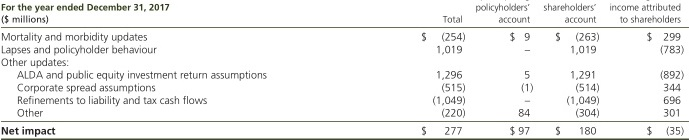column: (2, 1, 266, 140), (610, 1, 683, 140), (1, 44, 687, 56), (476, 1, 533, 140), (544, 1, 599, 140), (1, 82, 687, 93), (1, 32, 689, 42), (1, 58, 689, 68), (1, 70, 689, 80), (1, 3, 689, 12), (1, 15, 689, 24), (422, 1, 466, 140)
row: (1, 31, 689, 43), (1, 45, 689, 57), (1, 14, 689, 25), (1, 58, 689, 69), (1, 83, 689, 94), (1, 95, 687, 106), (1, 126, 689, 136), (1, 3, 689, 12), (1, 70, 689, 79), (1, 108, 689, 117)
